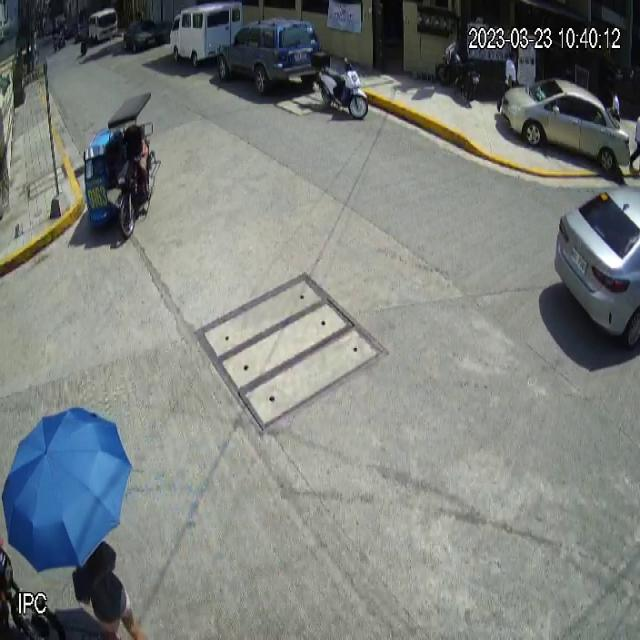Car: (501, 79, 631, 172), (216, 15, 322, 97)
Motorcycle: (312, 51, 368, 120)
Tricycle: (83, 91, 162, 241)
Van: (169, 0, 243, 67)
